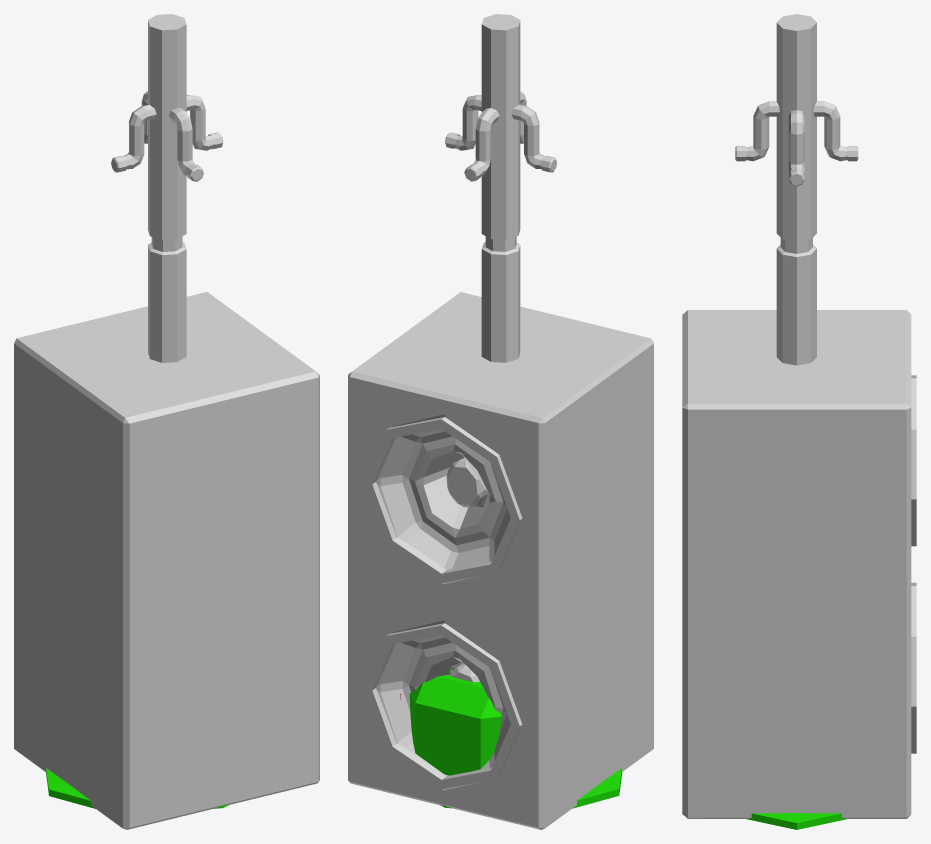
3 views of the same model, side by side, from view 1: azimuth 30°, elevation 25°; view 2: azimuth 150°, elevation 25°; view 3: azimuth 270°, elevation 25° (orthographic).
Parts seen in each view (by area): view 1: Speaker, CoatRack, Circle.008, Circle.007, Hat; view 2: Speaker, CoatRack, Rims, Radio, Circle.008, Circle.007, Hat; view 3: Speaker, CoatRack, Circle.007, Rims, Circle.008, Hat.
Part boxes in pixels (x1=…): Speaker: x1=14, y1=292, x2=319, y2=829; CoatRack: x1=148, y1=14, x2=186, y2=362; Circle.008: x1=111, y1=95, x2=223, y2=172; Circle.007: x1=141, y1=91, x2=203, y2=181; Hat: x1=46, y1=768, x2=228, y2=808; Speaker: x1=348, y1=292, x2=653, y2=829; CoatRack: x1=481, y1=14, x2=520, y2=362; Rims: x1=363, y1=417, x2=522, y2=789; Radio: x1=409, y1=669, x2=501, y2=775; Circle.008: x1=445, y1=95, x2=556, y2=172; Circle.007: x1=464, y1=91, x2=526, y2=181; Hat: x1=440, y1=768, x2=622, y2=808; Speaker: x1=682, y1=310, x2=911, y2=818; CoatRack: x1=776, y1=14, x2=816, y2=365; Circle.007: x1=735, y1=101, x2=858, y2=161; Rims: x1=911, y1=375, x2=916, y2=753; Circle.008: x1=788, y1=110, x2=804, y2=186; Hat: x1=746, y1=813, x2=846, y2=829.
Size of the model in its own units: 60 by 181 by 51.17.
